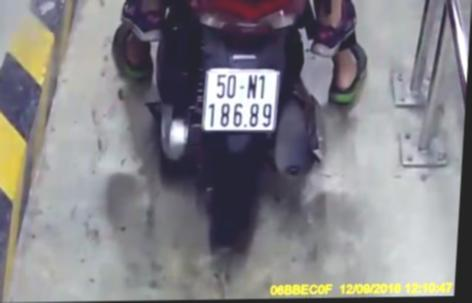License_Plate: (191, 65, 282, 138)
